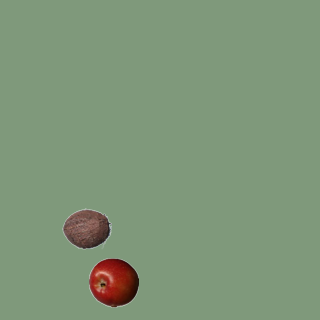Apple Braeburn: (88, 257, 138, 307)
Cocos: (61, 203, 111, 253)
